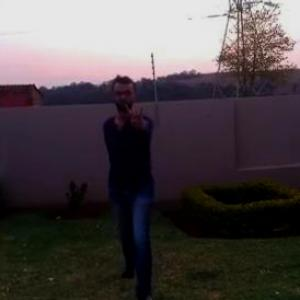takeoff-hand: (122, 99, 150, 136)
